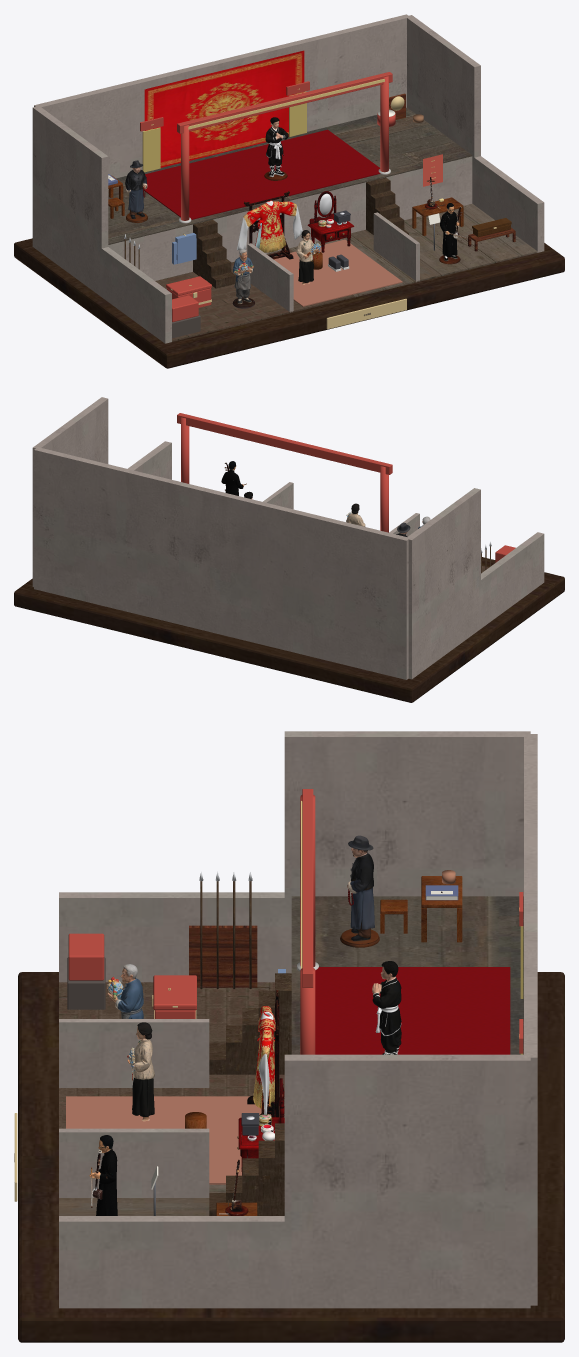
Rendered from case_opera.glb.
3 views of the same model, one above another, from view 1: azimuth 30°, elevation 25°; view 2: azimuth 150°, elevation 25°; view 3: azimuth 270°, elevation 25° (orthographic). The views are drawn at different scales.
Parts seen in each view (by area): view 1: static_18, static_5, static_27, static_0, static_14, static_13, static_8, static_24, static_25, static_12, static_23, static_16 (+14 smaller); view 2: static_18, static_5, static_8, fig_zhong_mesh; view 3: static_18, static_5, static_27, static_14, static_25, static_24, static_8, static_12, static_2, fig_huo_mesh, static_23, static_1 (+8 smaller).
Boxes of the visible parts, x1,y1,x2,y2 form: static_18: (32, 14, 544, 343); static_5: (14, 238, 564, 368); static_27: (144, 129, 380, 219); static_0: (144, 50, 304, 167); static_14: (108, 107, 472, 244); static_13: (290, 203, 537, 297); static_8: (140, 72, 395, 321); static_24: (274, 239, 402, 306); static_25: (124, 177, 408, 288); static_12: (155, 248, 354, 341); static_23: (237, 191, 302, 259); static_16: (307, 191, 354, 252); static_18: (32, 397, 544, 679); static_5: (14, 557, 564, 702); static_8: (177, 413, 515, 562); fig_zhong_mesh: (221, 461, 246, 495); static_18: (59, 731, 537, 1308); static_5: (18, 972, 564, 1342); static_27: (315, 967, 510, 1054); static_14: (291, 896, 523, 1054); static_25: (200, 881, 291, 1215); static_24: (66, 1096, 270, 1184); static_8: (68, 789, 523, 1054); static_12: (59, 982, 284, 1128); static_2: (189, 925, 257, 987); fig_huo_mesh: (340, 835, 379, 947); static_23: (247, 990, 279, 1117); static_1: (185, 876, 462, 1215).
Bounding box in the file's own units: 0.6 × 0.234 × 0.403.
Materials: 48 (19 with a texture image).
